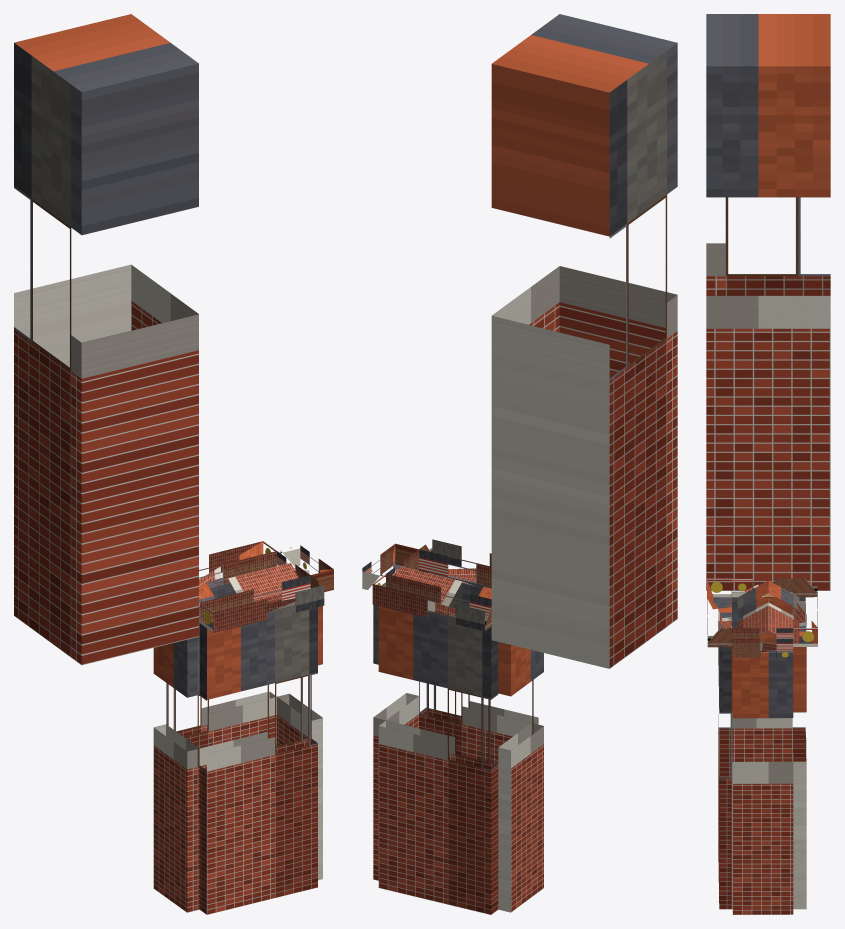
3 renders of one model, left to right at view 1: azimuth 30°, elevation 25°; view 2: azimuth 150°, elevation 25°; view 3: azimuth 270°, elevation 25°, orthographic. The views are drawn at different scales.
Visible parts, largest first — view 1: 1107107803__chimney_0_xb, 1107107803__wall_2_xb, 1107107803__wall_3_xb, 1107107803__wall_0_xb, 1107107803__cornice_2, 1107107803__wall_1_xb, 1107107803__cornice_0, 1107107803_roof_-1_xb, 1107107803__cornice_1; view 2: 1107107803__chimney_0_xb, 1107107803__wall_0_xb, 1107107803__wall_3_xb, 1107107803__wall_2_xb, 1107107803__cornice_0, 1107107803__wall_1_xb, 1107107803__cornice_2, 1107107803__cornice_1, 1107107803_roof_1_xb; view 3: 1107107803__chimney_0_xb, 1107107803__wall_1_xb, 1107107803__wall_2_xb, 1107107803__wall_0_xb, 1107107803__wall_3_xb, 1107107803__cornice_1, 1107107803__cornice_2, 1107107803_roof_1_xb, 1107107803__cornice_0, 1107107803_roof_-1_xb, 1107107803__cornice_3.
Part boxes in pixels (x1,y1,x2,y2): 1107107803__chimney_0_xb: (14,14,198,665); 1107107803__wall_2_xb: (199,601,317,914); 1107107803__wall_3_xb: (153,623,199,912); 1107107803__wall_0_xb: (166,578,276,748); 1107107803__cornice_2: (199,575,324,632); 1107107803__wall_1_xb: (277,600,322,880); 1107107803__cornice_0: (199,541,276,587); 1107107803_roof_-1_xb: (199,563,298,616); 1107107803__cornice_1: (277,545,333,591); 1107107803__chimney_0_xb: (491,14,677,668); 1107107803__wall_0_xb: (378,606,498,914); 1107107803__wall_3_xb: (498,642,543,912); 1107107803__wall_2_xb: (419,570,538,764); 1107107803__cornice_0: (372,574,491,631); 1107107803__wall_1_xb: (373,570,418,880); 1107107803__cornice_2: (419,539,491,587); 1107107803__cornice_1: (362,543,418,589); 1107107803_roof_1_xb: (394,566,491,618); 1107107803__chimney_0_xb: (706,14,830,590); 1107107803__wall_1_xb: (732,647,793,914); 1107107803__wall_2_xb: (718,597,732,909); 1107107803__wall_0_xb: (792,597,806,909); 1107107803__wall_3_xb: (732,591,792,761); 1107107803__cornice_1: (732,628,793,657); 1107107803__cornice_2: (707,578,732,647); 1107107803_roof_1_xb: (768,581,799,646); 1107107803__cornice_0: (792,578,817,646); 1107107803_roof_-1_xb: (737,580,768,636); 1107107803__cornice_3: (731,578,792,597).
Size of the model in its own units: 0.3407 by 1.05 by 0.15.
Materials: 1 (1 with a texture image).
